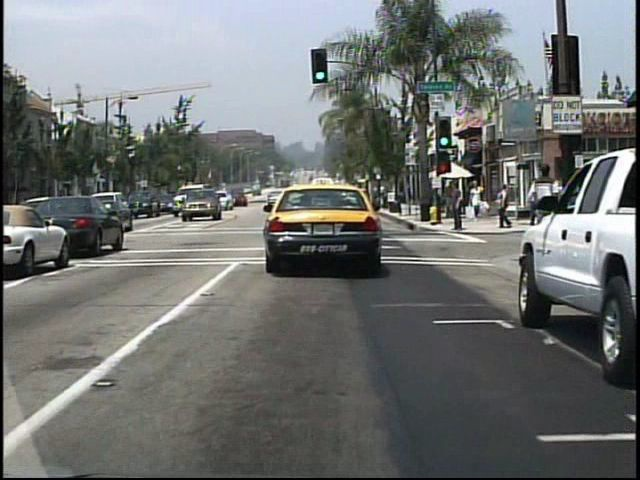person: (528, 159, 561, 258), (496, 181, 515, 229), (451, 182, 468, 234), (445, 181, 460, 226), (472, 180, 488, 221)
